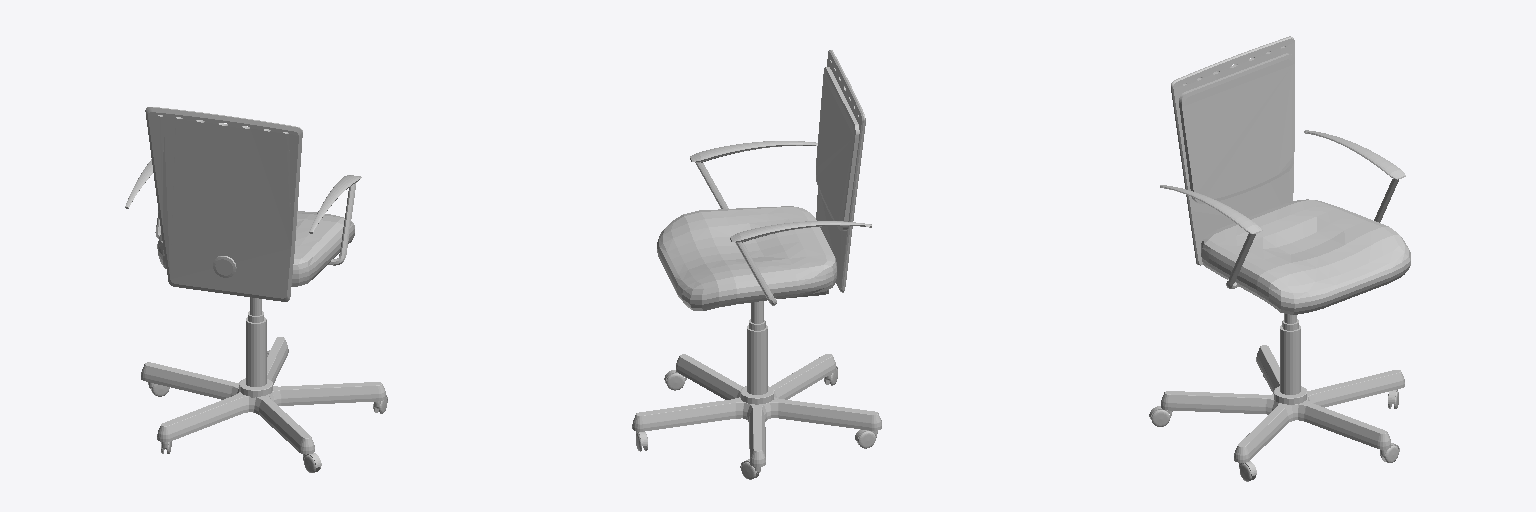
The model's file is office_chair.obj.
3 views of the same model, side by side, from view 1: azimuth 30°, elevation 25°; view 2: azimuth 150°, elevation 25°; view 3: azimuth 270°, elevation 25° (orthographic).
Parts seen in each view (by area): view 1: Color007.18, Object53, Box08, Object02, Loft70, Loft69; view 2: Box08, Object53, Rectangle53, Color007.18, Object02, Loft72, Loft70, Loft71; view 3: Box08, Rectangle53, Object53, Color007.18, Object02, Loft72, Loft70.
Boxes of the visible parts, box(x1,y1,x2,y2) form: Color007.18: box(145, 107, 302, 301); Object53: box(141, 337, 385, 454); Box08: box(157, 211, 354, 286); Object02: box(246, 317, 266, 386); Loft70: box(309, 175, 361, 232); Loft69: box(310, 182, 356, 265); Box08: box(657, 206, 836, 310); Object53: box(632, 354, 881, 466); Rectangle53: box(816, 67, 859, 230); Color007.18: box(816, 50, 865, 292); Object02: box(747, 325, 767, 394); Loft72: box(730, 221, 871, 242); Loft70: box(690, 141, 817, 162); Loft71: box(735, 226, 871, 305); Box08: box(1201, 199, 1410, 314); Rectangle53: box(1179, 53, 1294, 203); Object53: box(1161, 345, 1404, 462); Color007.18: box(1171, 36, 1294, 265); Object02: box(1280, 325, 1300, 394); Loft72: box(1304, 130, 1405, 179); Loft70: box(1160, 185, 1262, 233).
Bounding box in the file's own units: 0.5699 × 0.7926 × 0.5479.